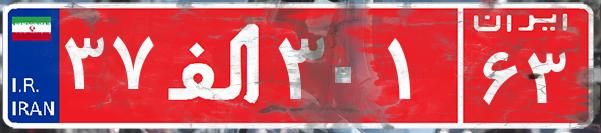0: (330, 28, 385, 110)
1: (385, 28, 445, 110)
3: (273, 28, 330, 110), (57, 26, 110, 107), (525, 38, 570, 115)
6: (475, 38, 525, 113)
7: (110, 28, 158, 105)
الف: (158, 15, 273, 115)
